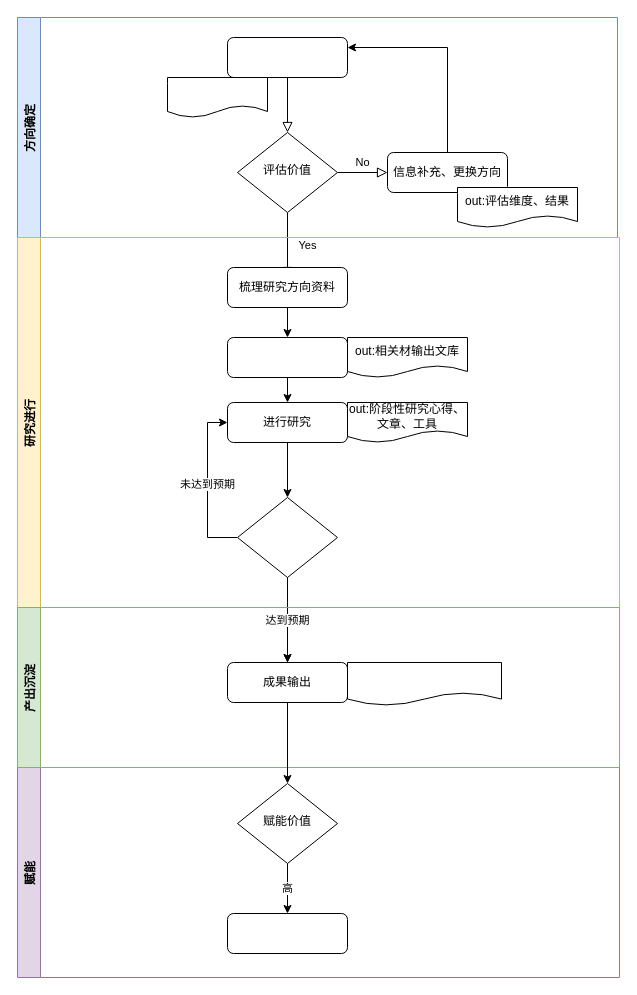
The diagram is 637 pixels wide and 995 high, and some of its shapes have lost their labels. The centre of each missing label's shape, as x and y in pixels:
"iput:研究内容描述、预期" belongs at (217,97).
"out:工具、工程化方案、技术沉淀文档、研究议题、..." belongs at (424,684).
"学习消化相关资料" belongs at (287,357).
"开启技术研究" belongs at (287,57).
"研究Review" belongs at (287,537).
"赋能产品、区域红队、其他团队" belongs at (287,933).
